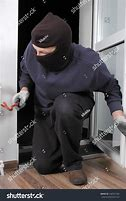crowbar: (1, 90, 27, 116)
